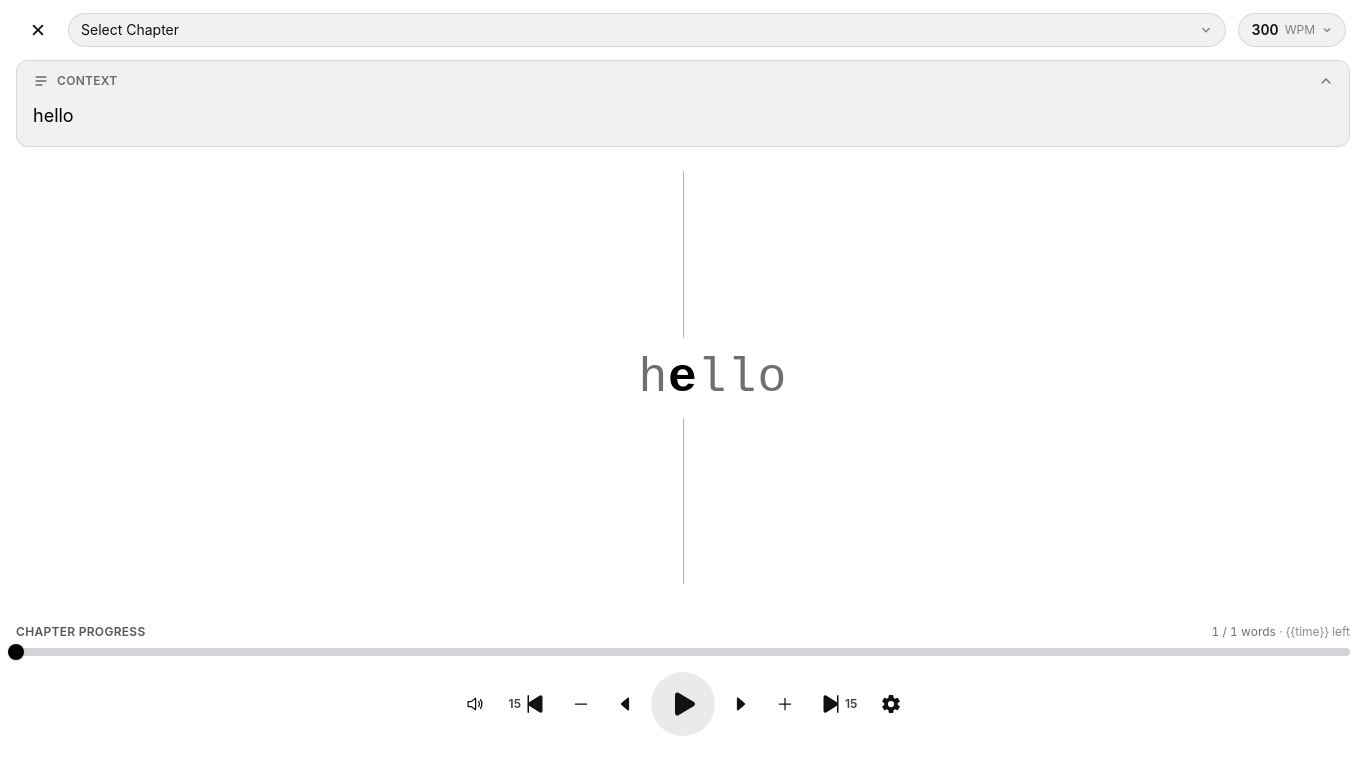
Test: RSVPOverlay — fine-grained WPM entry (#5820) › the dropdown offers a numeric field prefilled with the current speed
Click the button with aria-label "Select reading speed" at [1292, 30], box [1238,13,1346,47]
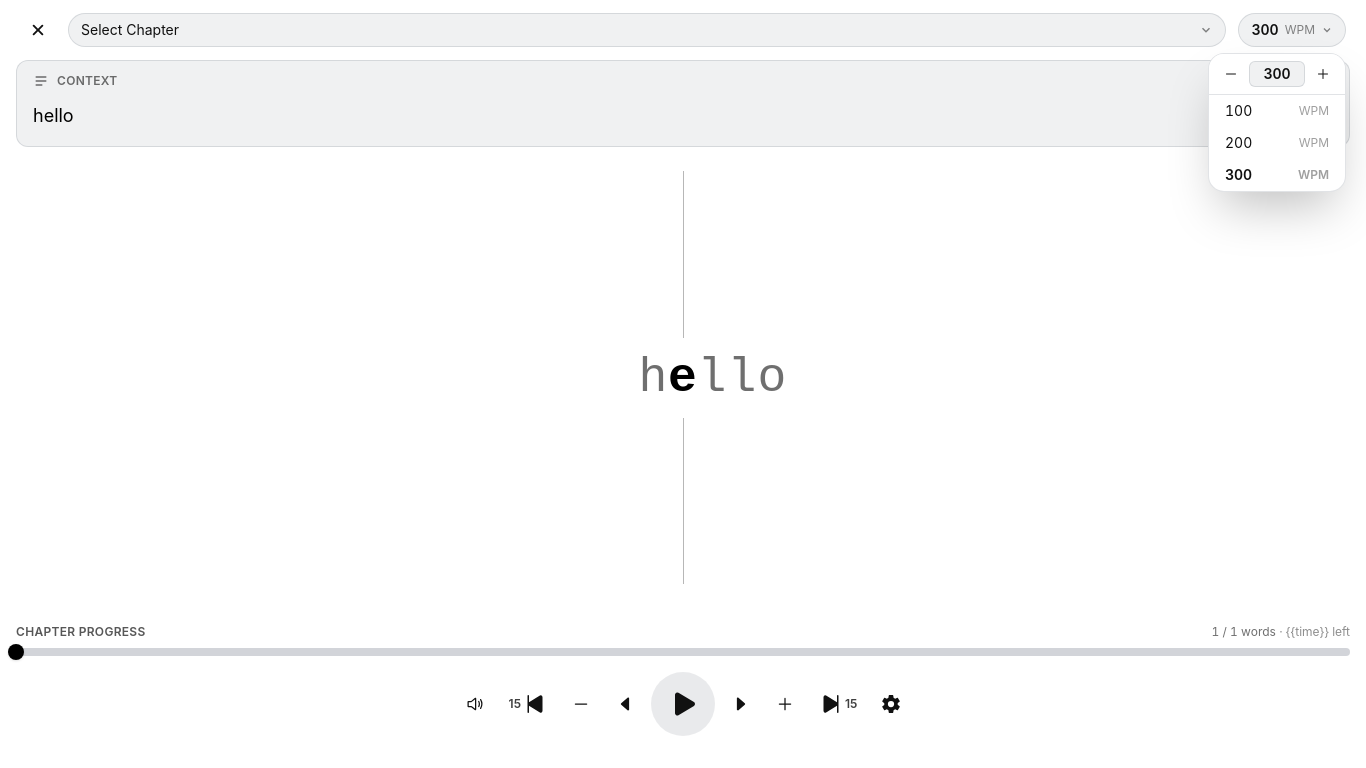
Check: the field named "Words per minute" holds "300", box [1249,61,1305,87]
